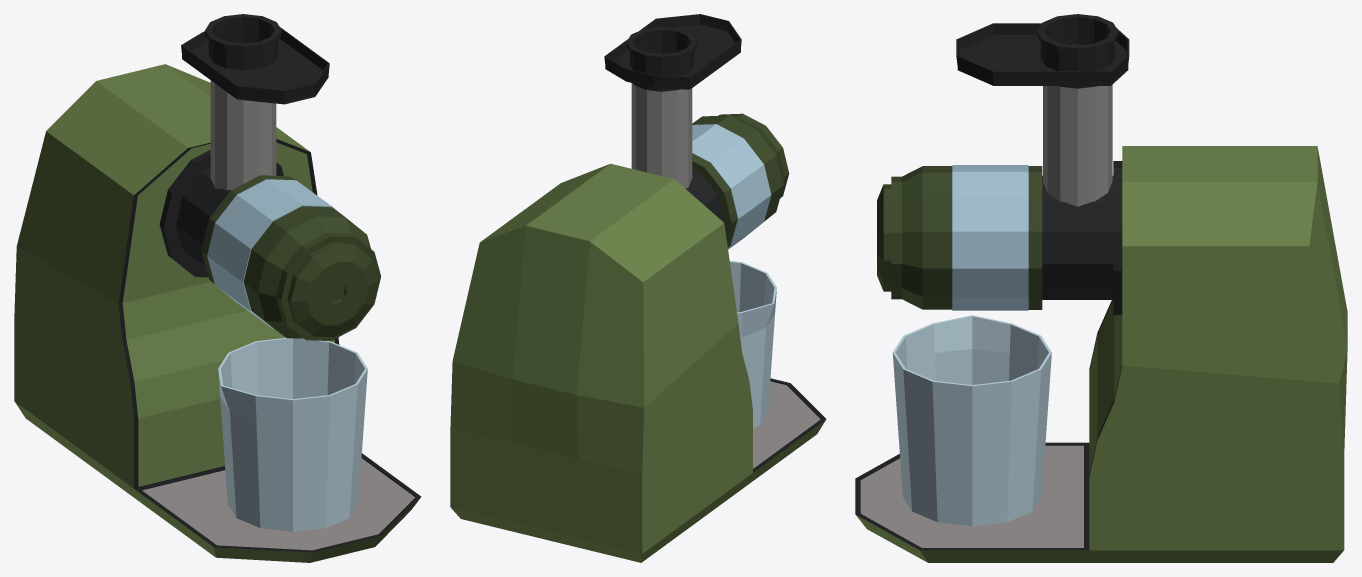
The model's file is juicer_01_B.gltf.
3 views of the same model, side by side, from view 1: azimuth 30°, elevation 25°; view 2: azimuth 150°, elevation 25°; view 3: azimuth 270°, elevation 25° (orthographic). The views are drawn at different scales.
Parts seen in each view (by area): view 1: juicer_01_B, Glassforjuicer_01_B; view 2: juicer_01_B, Glassforjuicer_01_B; view 3: juicer_01_B, Glassforjuicer_01_B.
Boxes of the visible parts, <box> form: juicer_01_B: <box>14,14,421,562</box>; Glassforjuicer_01_B: <box>218,338,367,531</box>; juicer_01_B: <box>450,14,826,562</box>; Glassforjuicer_01_B: <box>729,261,776,428</box>; juicer_01_B: <box>855,14,1347,562</box>; Glassforjuicer_01_B: <box>892,315,1051,526</box>.
Size of the model in its own units: 0.228 by 0.4748 by 0.4404.
1 material, 1 textured.
